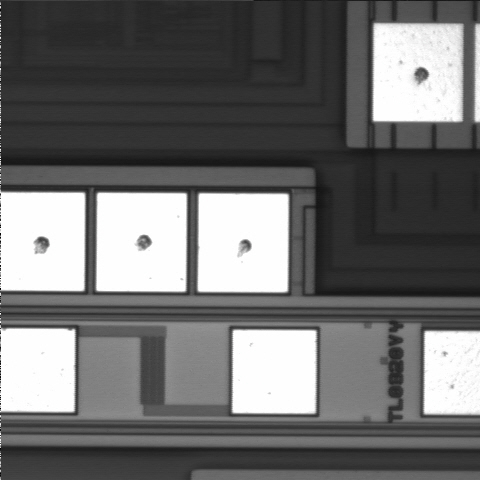pad: (96, 193, 187, 292), (198, 193, 288, 292), (373, 24, 462, 121), (233, 330, 316, 413)
